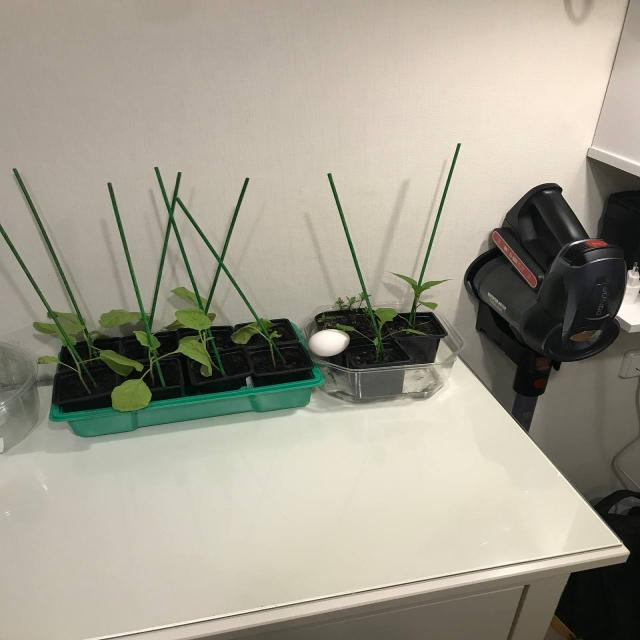egg: (308, 328, 352, 358)
